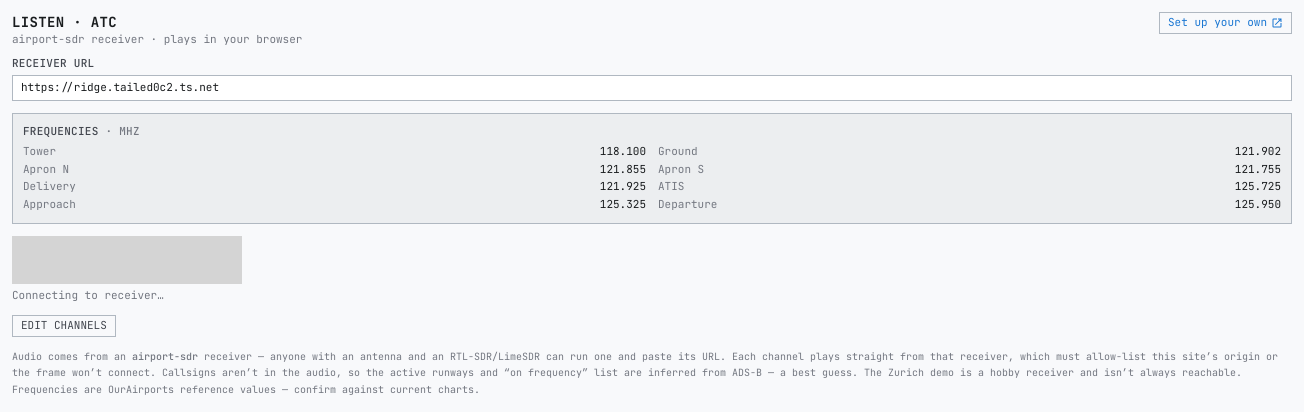
Test: AtcPanel › lists no channels until a receiver URL is set
Clear the field labelled "Receiver URL": [652, 88] box x1=12 y1=75 x2=1292 y2=101
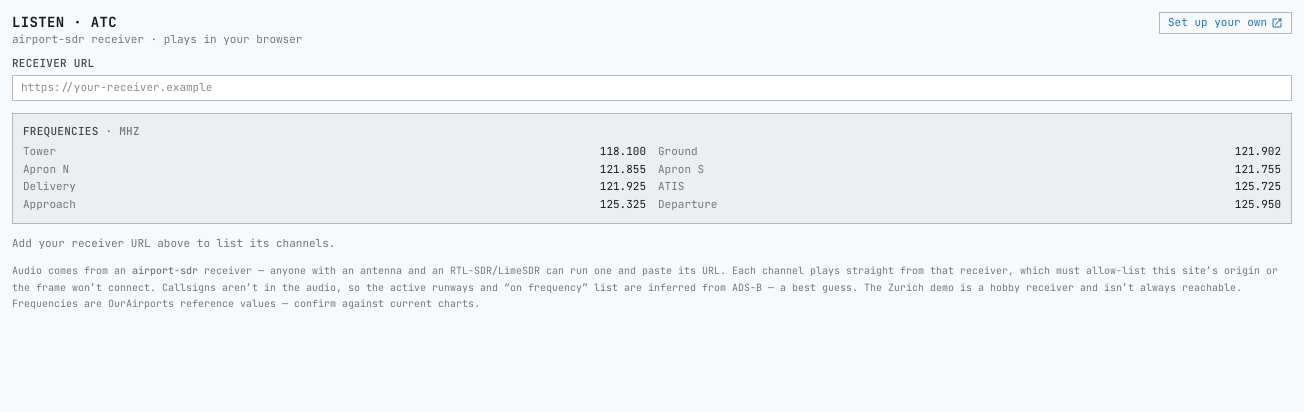
Expected: the text "Add your receiver URL above to list its channels." is shown, x1=12 y1=236 x2=335 y2=250
